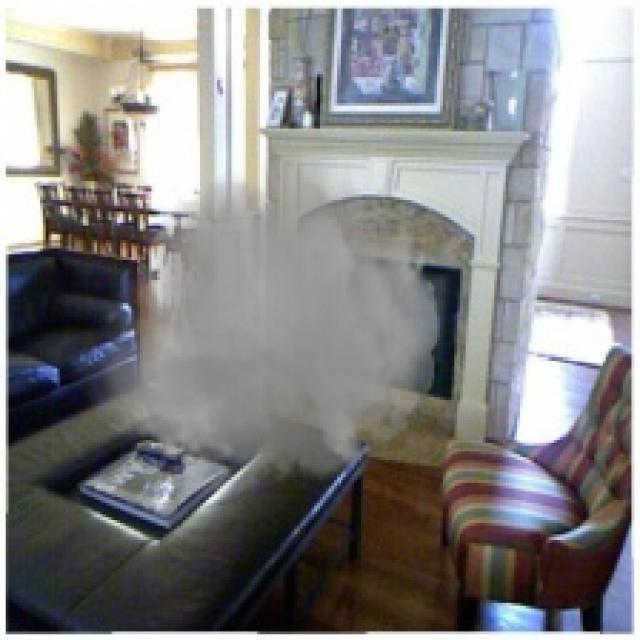smoke: (74, 128, 449, 512)
